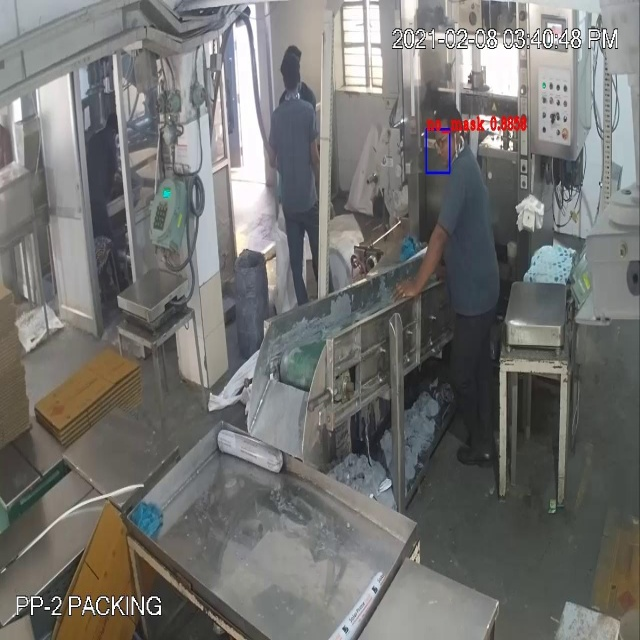Sin_guantes: (392, 212, 454, 308)
